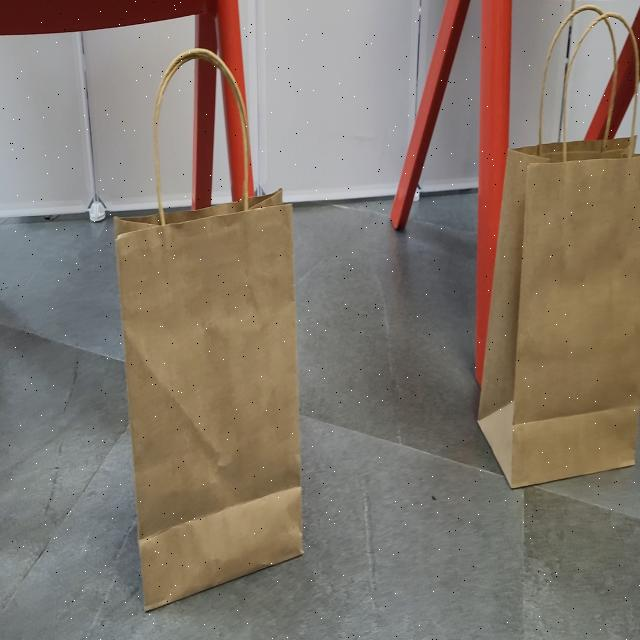paper bag: (113, 46, 305, 619), (472, 0, 640, 490)
